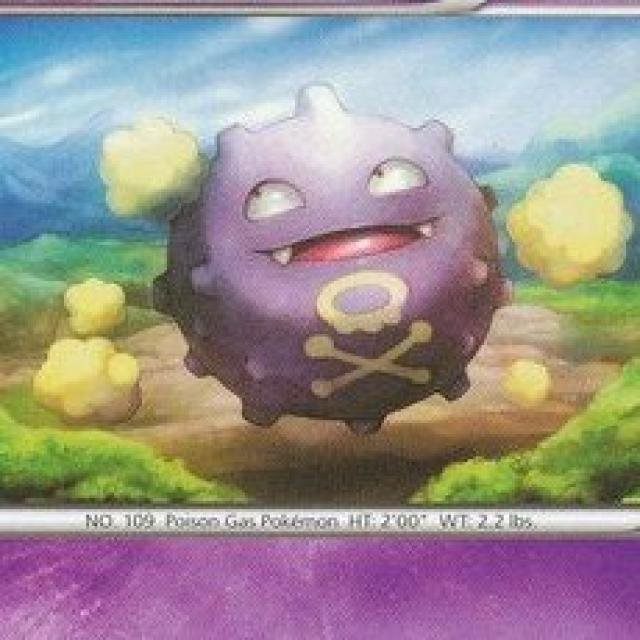Koffing: (157, 119, 507, 435)
